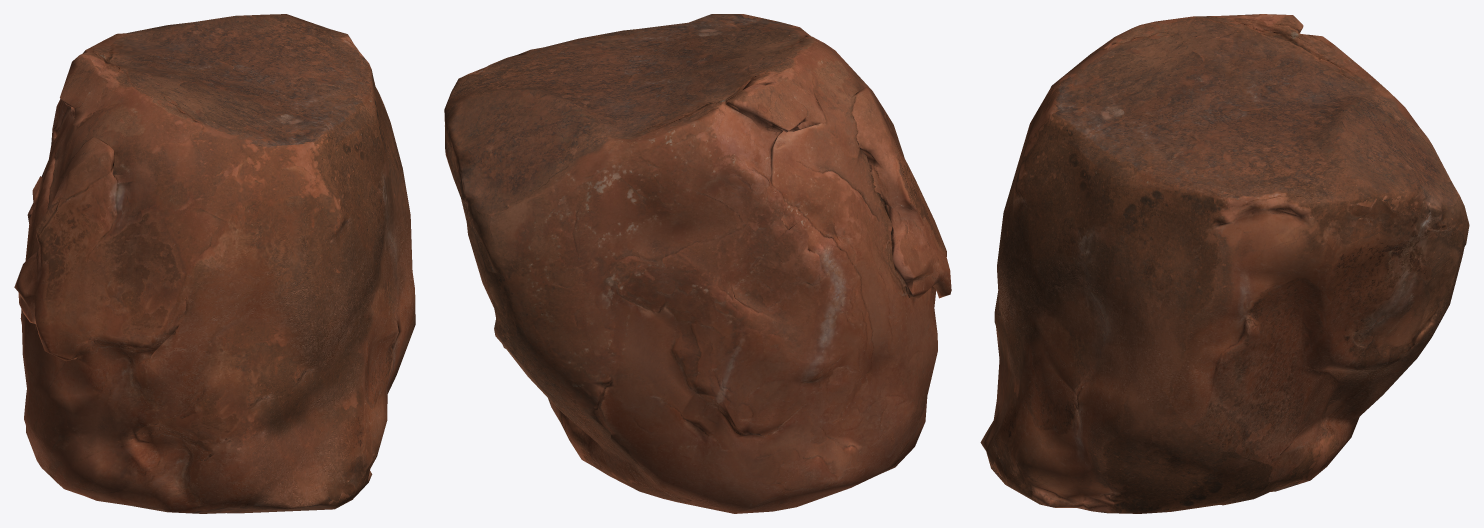
Rendered from SM_Rock_13.fbx.
3 views of the same model, side by side, from view 1: azimuth 30°, elevation 25°; view 2: azimuth 150°, elevation 25°; view 3: azimuth 270°, elevation 25° (orthographic). The views are drawn at different scales.
Parts seen in each view (by area): view 1: SM_Rock_13_LOD0; view 2: SM_Rock_13_LOD0; view 3: SM_Rock_13_LOD0.
Boxes of the visible parts, <box> form: SM_Rock_13_LOD0: <box>14,14,415,513</box>; SM_Rock_13_LOD0: <box>444,14,951,513</box>; SM_Rock_13_LOD0: <box>980,14,1469,513</box>.
Size of the model in its own units: 86.11 by 87.62 by 83.01.
1 material, 1 textured.
